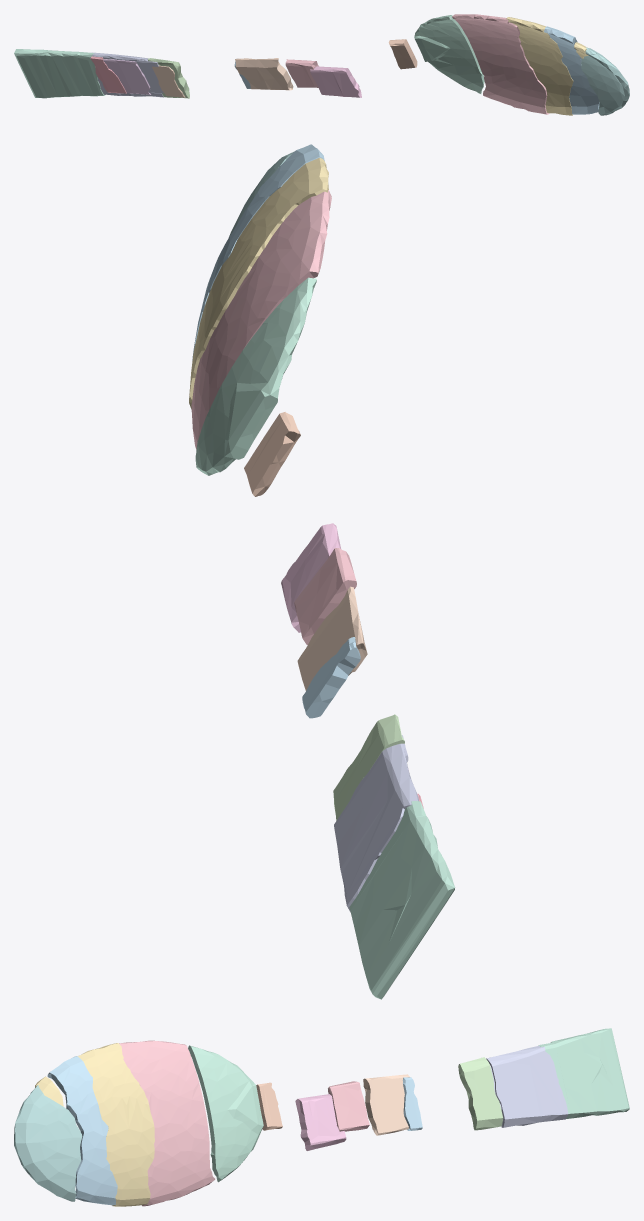
The model's file is view_assembly_9_colored.glb.
3 views of the same model, one above another, from view 1: azimuth 30°, elevation 25°; view 2: azimuth 150°, elevation 25°; view 3: azimuth 270°, elevation 25° (orthographic). The views are drawn at different scales.
Parts seen in each view (by area): view 1: world; view 2: world; view 3: world.
Boxes of the visible parts, box(x1,y1,x2,y2) form: world: box(14, 14, 629, 115); world: box(189, 144, 454, 999); world: box(14, 1028, 629, 1206).
Bounding box in the file's own units: 0.7821 × 0.3752 × 1.01.
